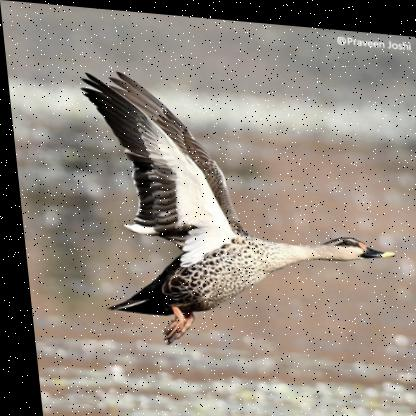Burung: (76, 66, 399, 359)
